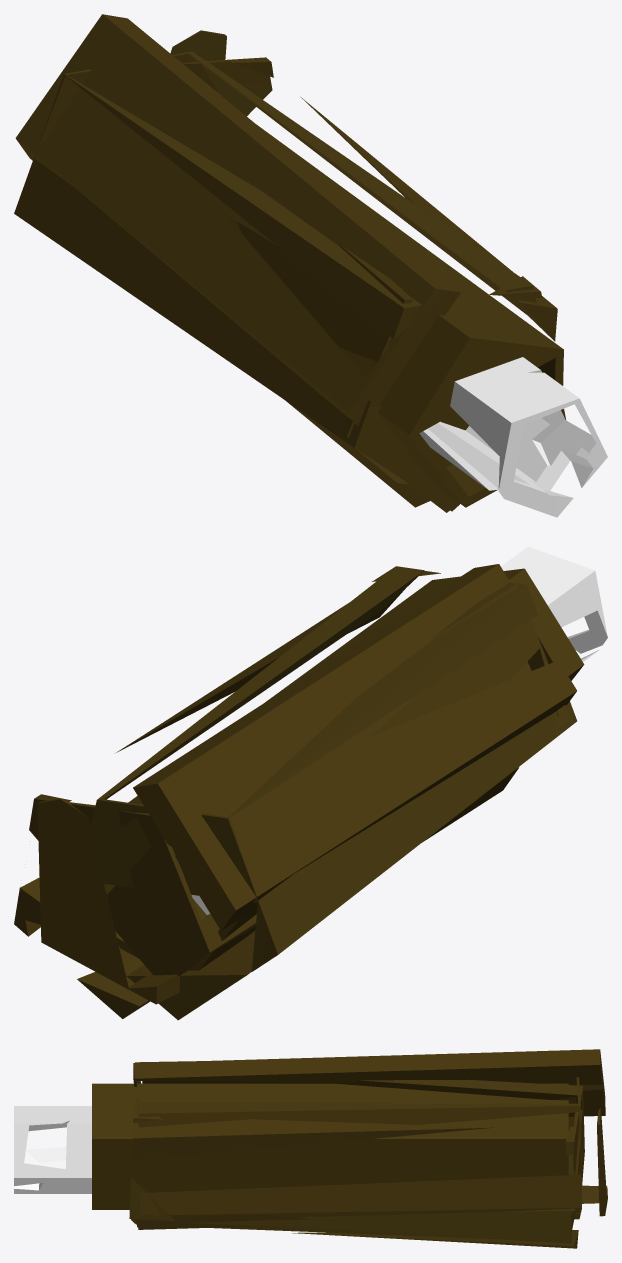
The model's file is Tower.fbx.
The picture shows the model from 3 angles, top to bottom: view 1: azimuth 30°, elevation 25°; view 2: azimuth 150°, elevation 25°; view 3: azimuth 270°, elevation 25°; orthographic projection. The views are drawn at different scales.
Parts seen in each view (by area): view 1: Cylinder006, Cylinder008, Cylinder002, Inside, Cylinder007; view 2: Cylinder006, Cylinder008, Cylinder007, Inside, Cylinder002; view 3: Cylinder002, Cylinder006, Cylinder008, Cylinder007, Inside.
Boxes of the visible parts, left/top/right/bottom form: Cylinder006: left=15, top=14, right=557, bottom=507; Cylinder008: left=14, top=51, right=536, bottom=511; Cylinder002: left=226, top=125, right=563, bottom=507; Inside: left=419, top=357, right=607, bottom=517; Cylinder007: left=182, top=57, right=565, bottom=512; Cylinder006: left=37, top=564, right=576, bottom=1004; Cylinder008: left=90, top=566, right=576, bottom=1020; Cylinder007: left=14, top=568, right=571, bottom=1018; Inside: left=191, top=546, right=607, bottom=914; Cylinder002: left=104, top=568, right=584, bottom=970; Cylinder002: left=92, top=1083, right=568, bottom=1209; Cylinder006: left=133, top=1049, right=607, bottom=1229; Cylinder008: left=135, top=1061, right=581, bottom=1227; Cylinder007: left=129, top=1062, right=584, bottom=1248; Inside: left=14, top=1106, right=91, bottom=1193.
Size of the model in its own units: 0.4892 by 0.4532 by 1.34.
